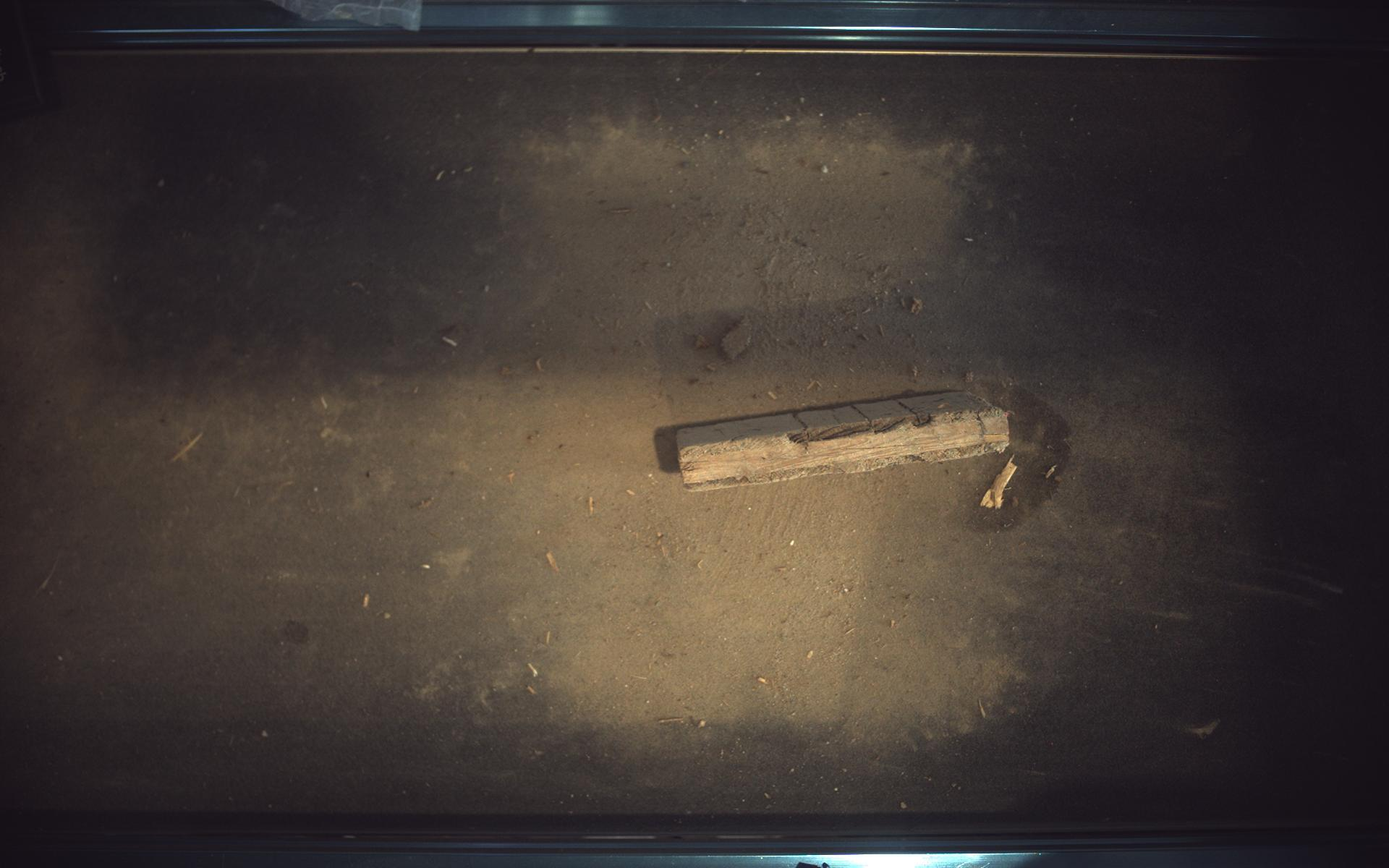wood: (677, 392, 1011, 491)
